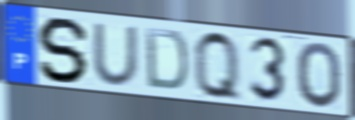3: (245, 36, 292, 105)
D: (143, 25, 190, 93)
O: (294, 40, 344, 111)
Q: (191, 28, 245, 105)
S: (35, 15, 93, 85)
U: (90, 22, 142, 89)
